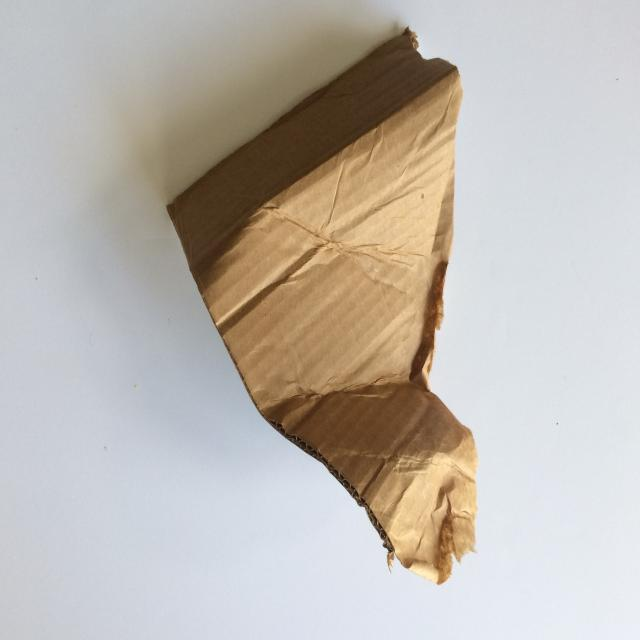cardboard: (165, 25, 479, 585)
